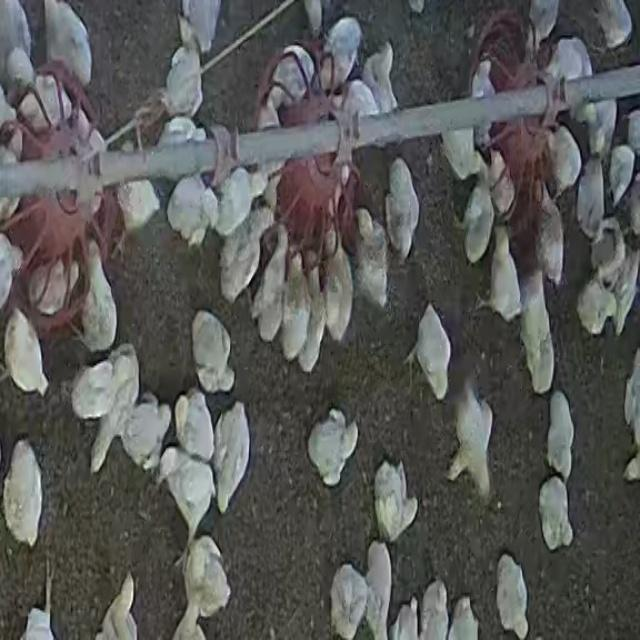chicken: (444, 382, 494, 498), (89, 363, 140, 473), (174, 534, 230, 630), (162, 448, 216, 543), (218, 206, 268, 308), (78, 242, 119, 356), (3, 436, 44, 548), (185, 308, 240, 391), (4, 305, 50, 401), (42, 1, 92, 89), (519, 270, 555, 392), (120, 392, 173, 474), (165, 169, 218, 250), (412, 303, 455, 401), (214, 163, 270, 237), (214, 404, 252, 511), (483, 224, 523, 324), (384, 158, 420, 264), (255, 226, 289, 338), (161, 40, 205, 126), (306, 410, 361, 478), (352, 210, 388, 310), (70, 353, 121, 423), (374, 461, 418, 542), (320, 15, 363, 97), (282, 248, 312, 361), (461, 172, 496, 268), (324, 230, 354, 342), (328, 563, 371, 638), (17, 75, 76, 128), (174, 388, 217, 460), (114, 176, 163, 237), (270, 43, 318, 105), (546, 392, 576, 490), (537, 475, 574, 554), (26, 258, 78, 313), (495, 555, 529, 639), (362, 42, 399, 114), (574, 273, 616, 336), (469, 54, 502, 134), (575, 154, 606, 239), (537, 192, 565, 286), (587, 217, 624, 286), (549, 125, 582, 198), (181, 1, 223, 56), (589, 0, 633, 48), (607, 144, 635, 210), (528, 0, 562, 48)
